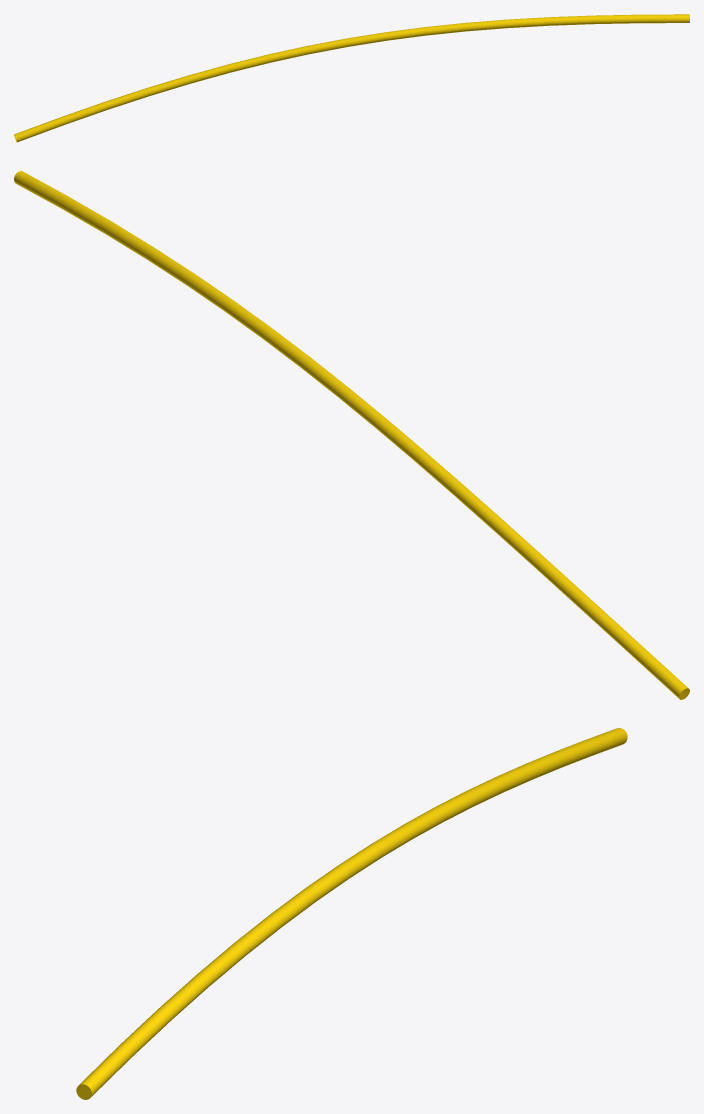
The model's file is Event_421364160_track_86.fbx.
3 views of the same model, one above another, from view 1: azimuth 30°, elevation 25°; view 2: azimuth 150°, elevation 25°; view 3: azimuth 270°, elevation 25° (orthographic). The views are drawn at different scales.
Parts seen in each view (by area): view 1: Model; view 2: Model; view 3: Model.
Boxes of the visible parts, x1,y1,x2,y2 form: Model: (14,14,689,142); Model: (14,171,689,699); Model: (76,728,627,1099).
Size of the model in its own units: 2.9 by 0.4893 by 1.27.
